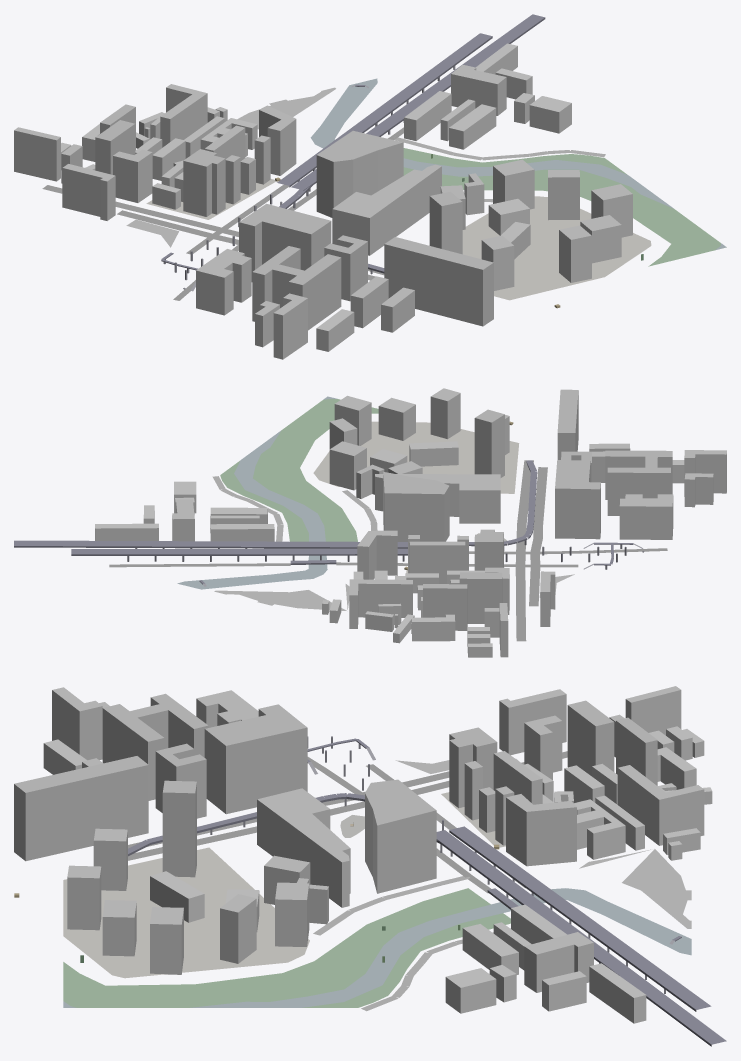
3 views of the same model, one above another, from view 1: azimuth 30°, elevation 25°; view 2: azimuth 150°, elevation 25°; view 3: azimuth 270°, elevation 25° (orthographic). The views are drawn at different scales.
Size of the model in its own units: 617 by 75.52 by 567.
